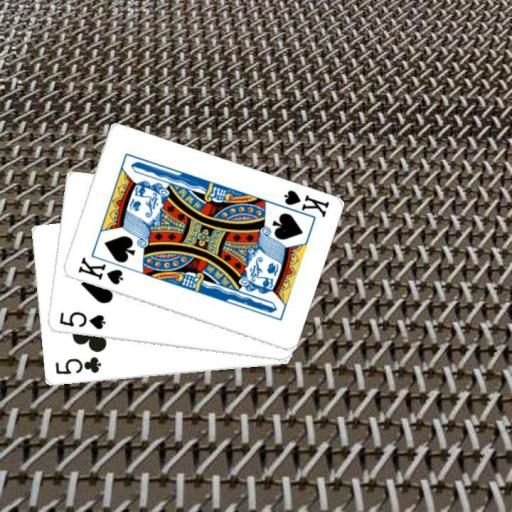5C: (52, 354, 102, 377)
5S: (56, 309, 107, 332)
KS: (272, 186, 330, 221), (74, 254, 124, 286)
